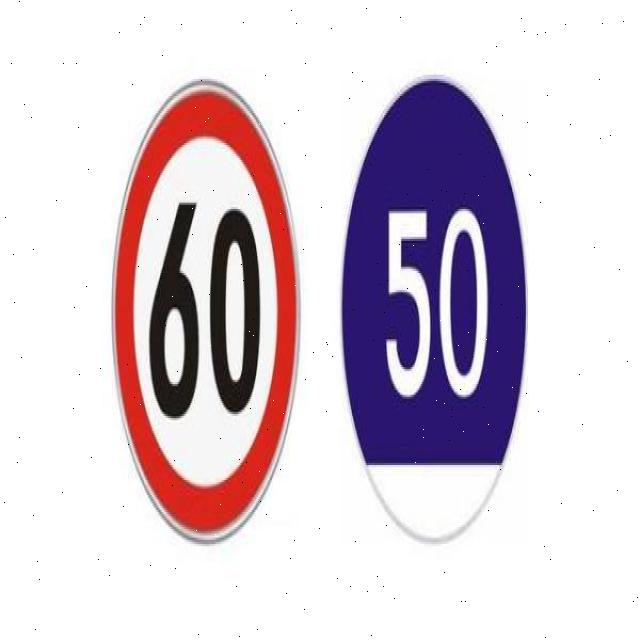speed limit 50: (339, 75, 528, 546)
speed limit 60: (112, 78, 303, 546)
